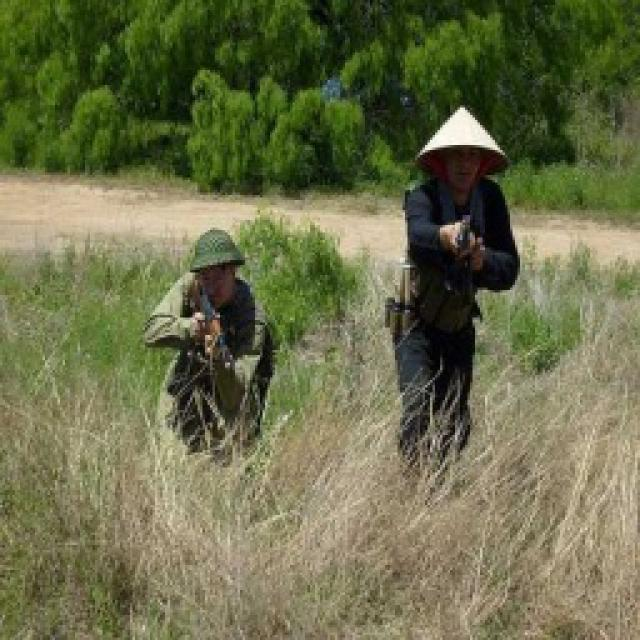long weapon: (181, 288, 240, 382), (443, 215, 484, 270)
